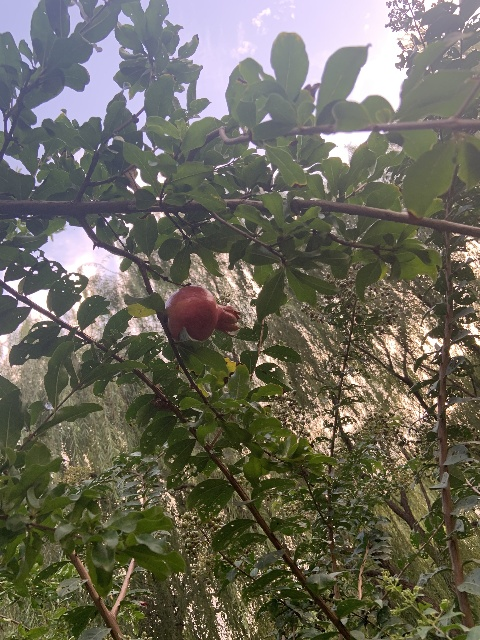ripe: (165, 285, 240, 340)
